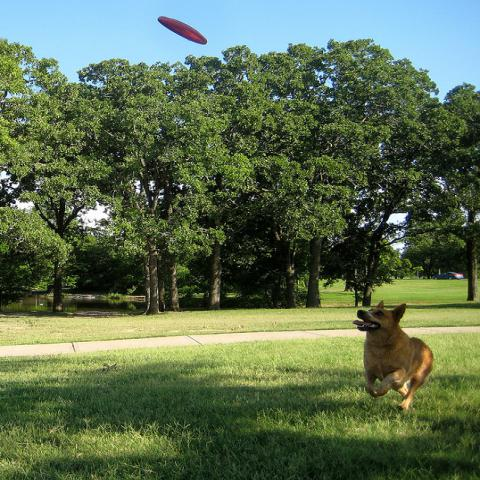car: (432, 271, 465, 280)
